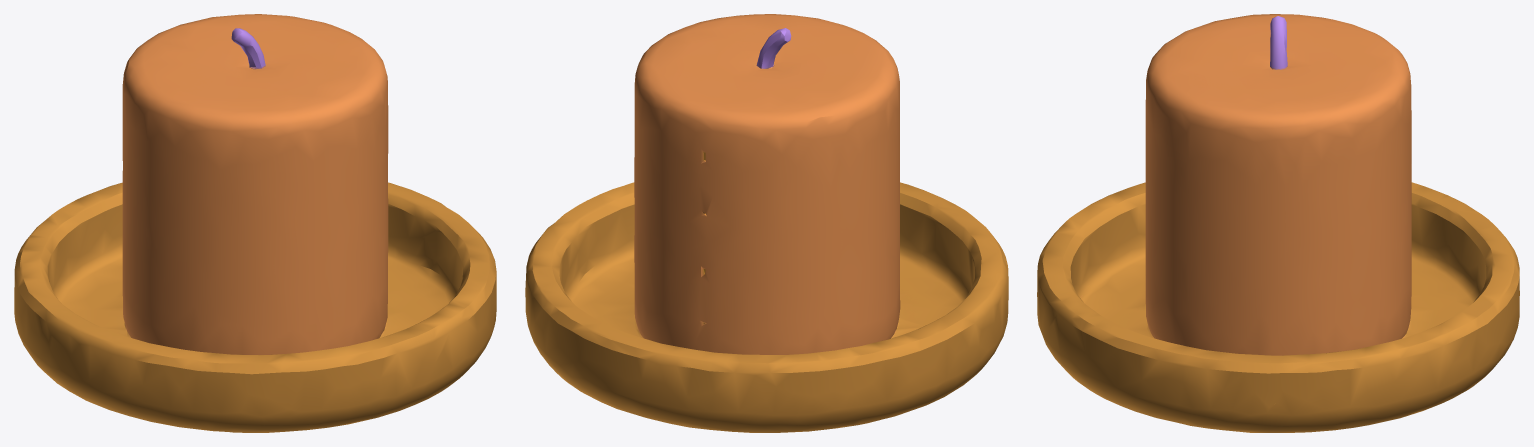
File: Candle.glb
3 views of the same model, side by side, from view 1: azimuth 30°, elevation 25°; view 2: azimuth 150°, elevation 25°; view 3: azimuth 270°, elevation 25° (orthographic).
Parts seen in each view (by area): view 1: geometry_0; view 2: geometry_0; view 3: geometry_0.
Boxes of the visible parts, x1,y1,x2,y2 form: geometry_0: [14, 14, 496, 432]; geometry_0: [525, 14, 1008, 432]; geometry_0: [1037, 14, 1519, 432].
Bounding box in the file's own units: 0.0862 × 0.0621 × 0.0862.
1 material, 1 textured.
